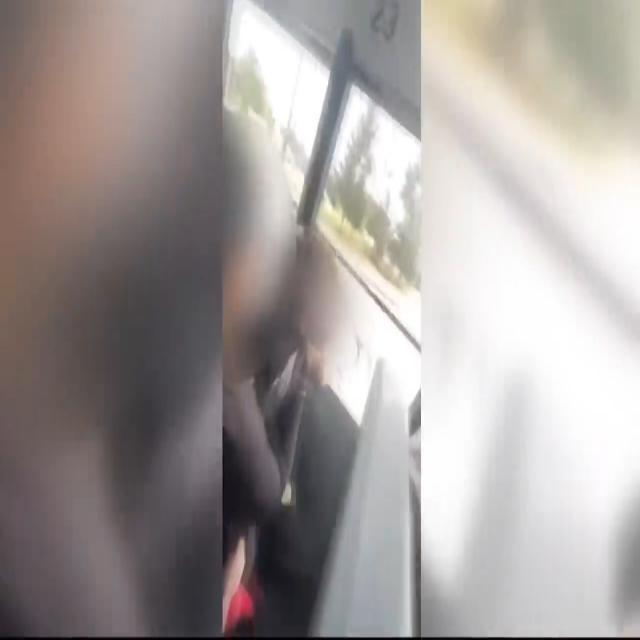fight: (224, 74, 352, 606)
